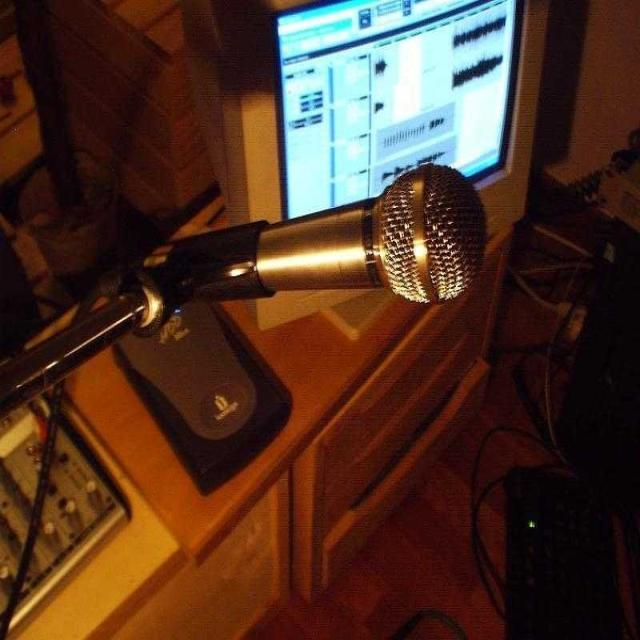microphone: (10, 170, 480, 434)
